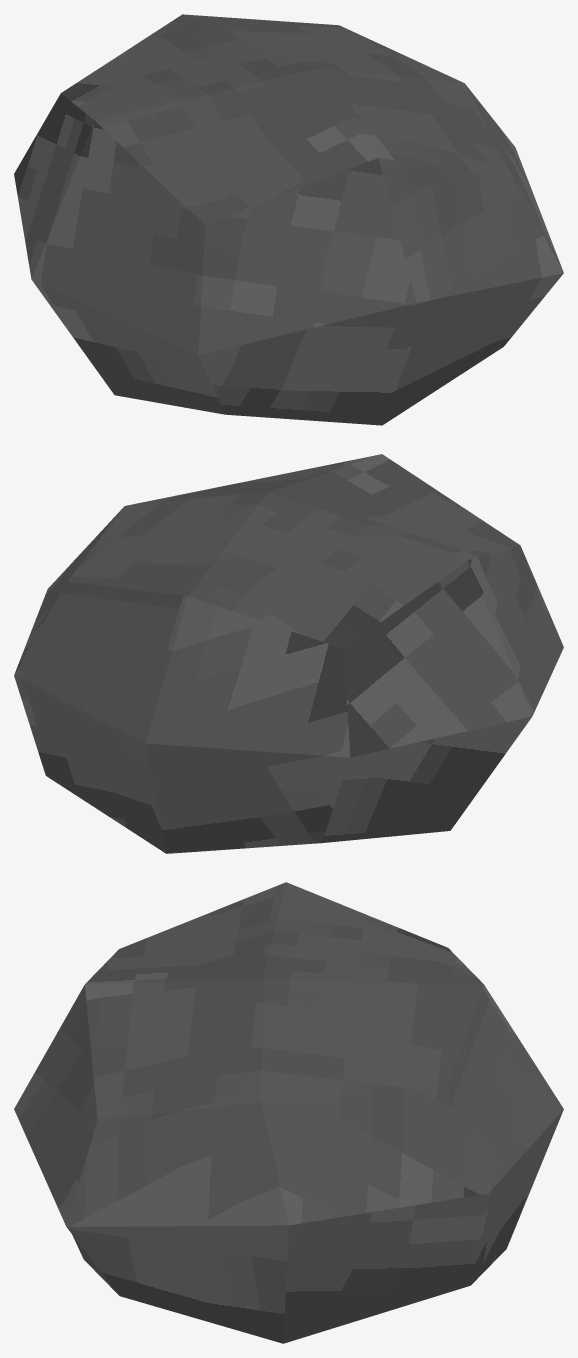
The model's file is stone.glb.
3 renders of one model, top to bottom at view 1: azimuth 30°, elevation 25°; view 2: azimuth 150°, elevation 25°; view 3: azimuth 270°, elevation 25°, orthographic. The views are drawn at different scales.
Parts seen in each view (by area): view 1: stone 1.004-col; view 2: stone 1.004-col; view 3: stone 1.004-col.
Part boxes in pixels (<box>): stone 1.004-col: <box>14,14,563,425</box>; stone 1.004-col: <box>14,454,563,853</box>; stone 1.004-col: <box>14,882,563,1343</box>.
Size of the model in its own units: 1.49 by 0.8457 by 1.44.
Materials: 1 (1 with a texture image).
